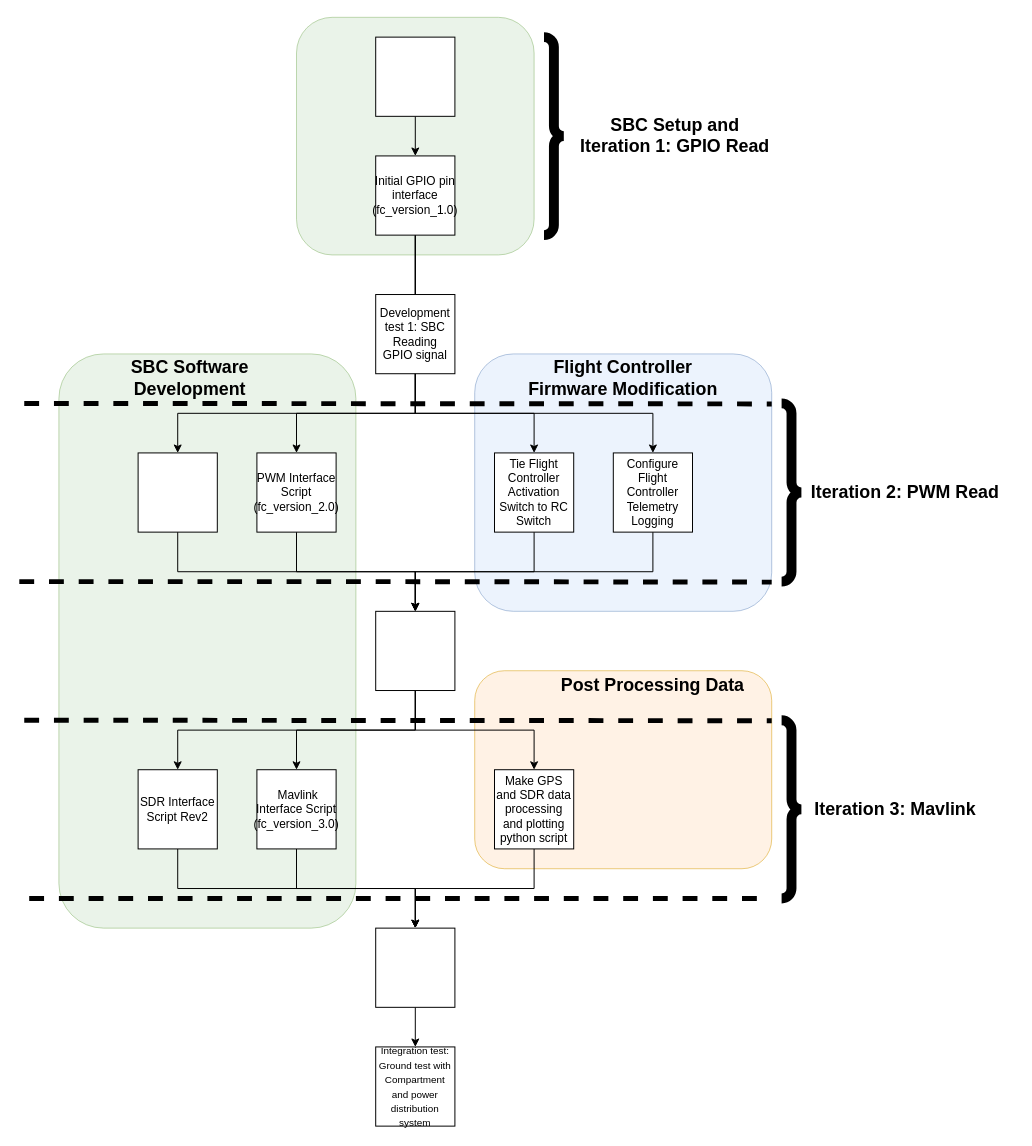
The diagram is 1032 pixels wide and 1146 high, and some of its shapes have lost their labels. Here are the shapes that lost their labels. From the top down, the centre of each, then its label:
the point at 415,76: SBC Setup
the point at 177,492: SDR Interface Script Rev1
the point at 415,650: Development test 2: RC switch to PWM input to Capture
the point at 415,967: Development test 3: Full telemetry live handoff and full capture cycle
